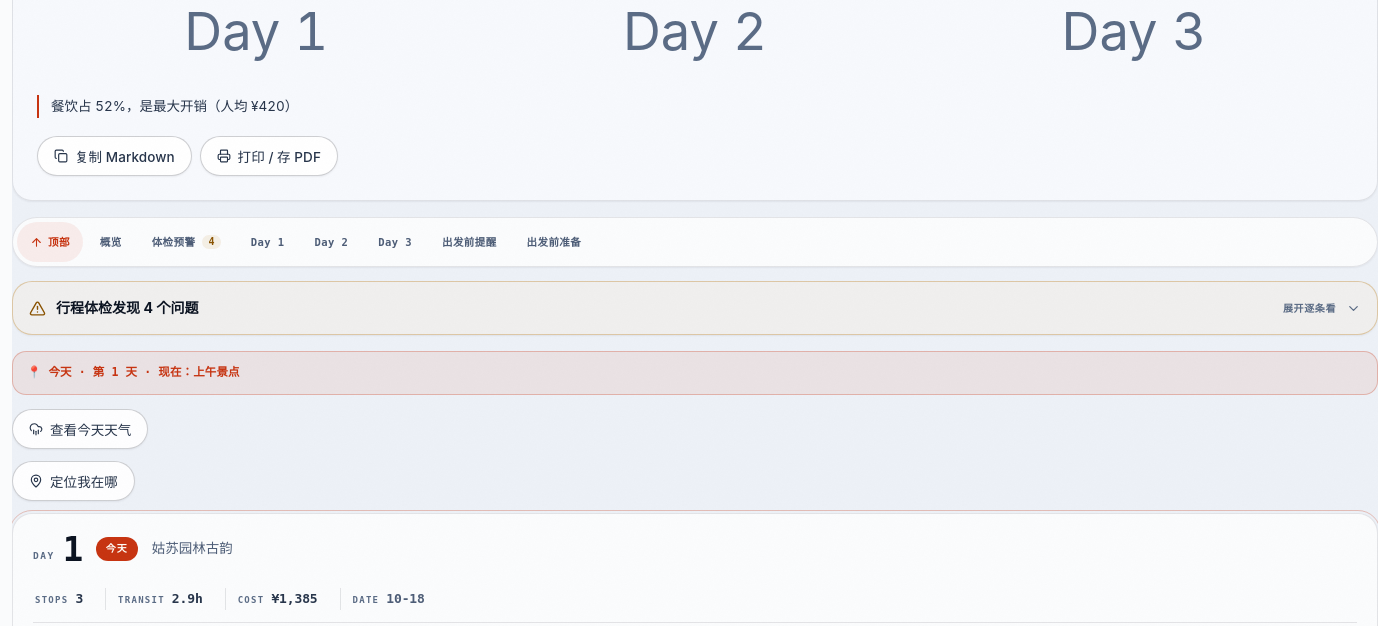
Test: PlanView 行中高亮（今天） › 旅途中点「查看今天天气」→ 展示今天天气 + 坏天气对室外景点的提示
(page scrolled)
Step 1. Click the button "查看今天天气" → point(80, 429), box [12,409,148,449]
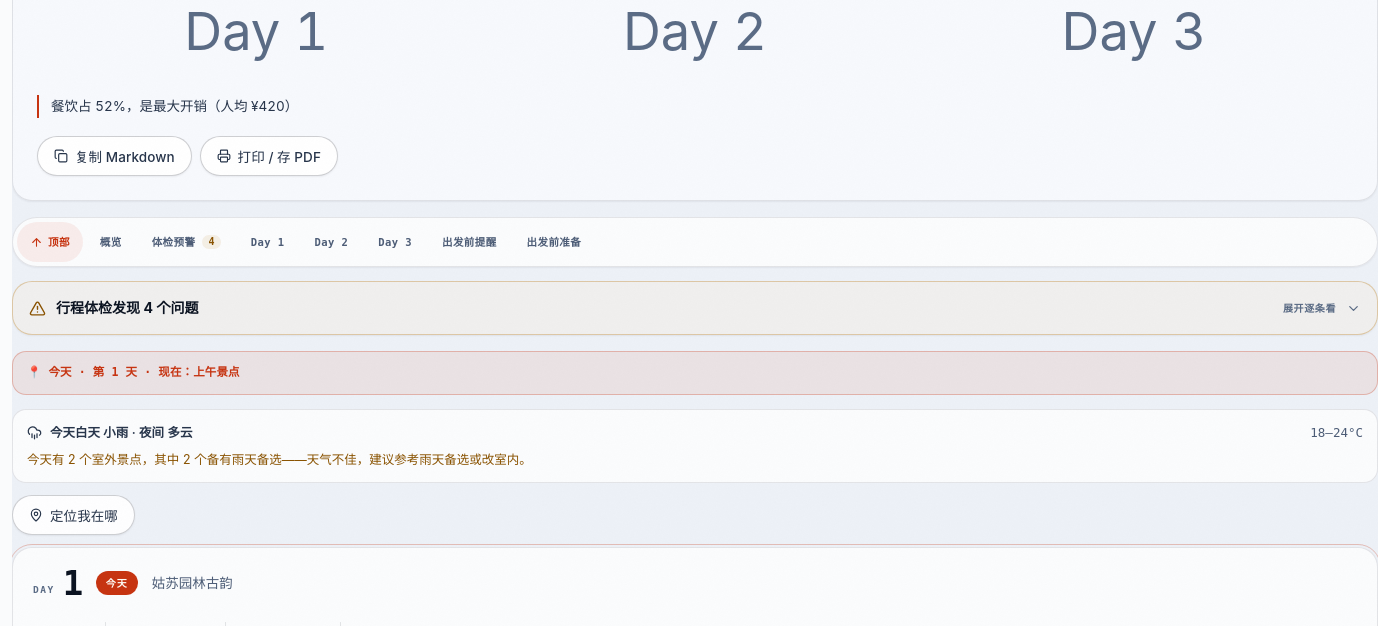
Expected: the text "今天白天 小雨 · 夜间 多云" is shown, [50,422,192,443]
Expected: the text with class "weather-warn" shows "个室外景点", [27,452,532,467]
Expected: the text with class "weather-warn" shows "雨天备选", [27,452,532,467]
